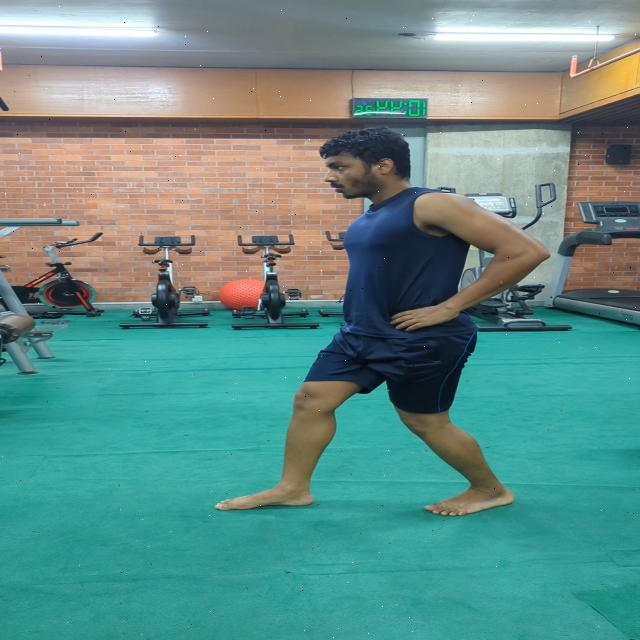Normal_Lunges: (210, 119, 560, 527)
